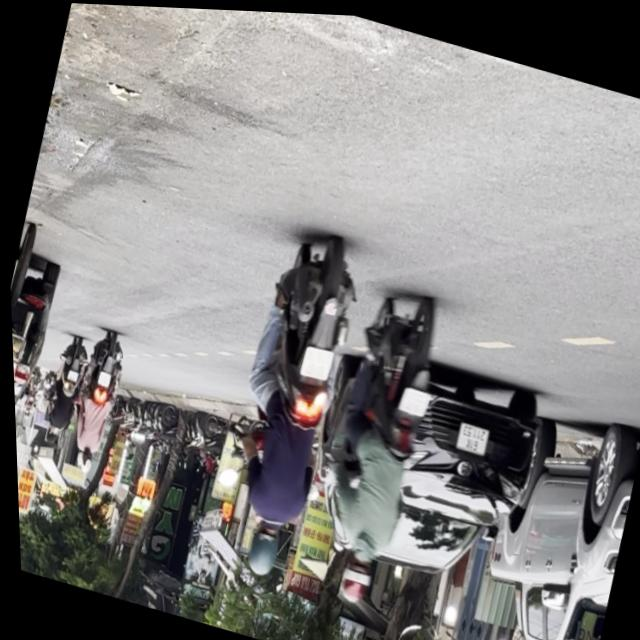helmet: (237, 516, 282, 578), (330, 545, 373, 605)
licenseplate: (192, 215, 381, 591), (288, 273, 462, 613)
nohelmet: (296, 341, 331, 378), (392, 382, 428, 415)
